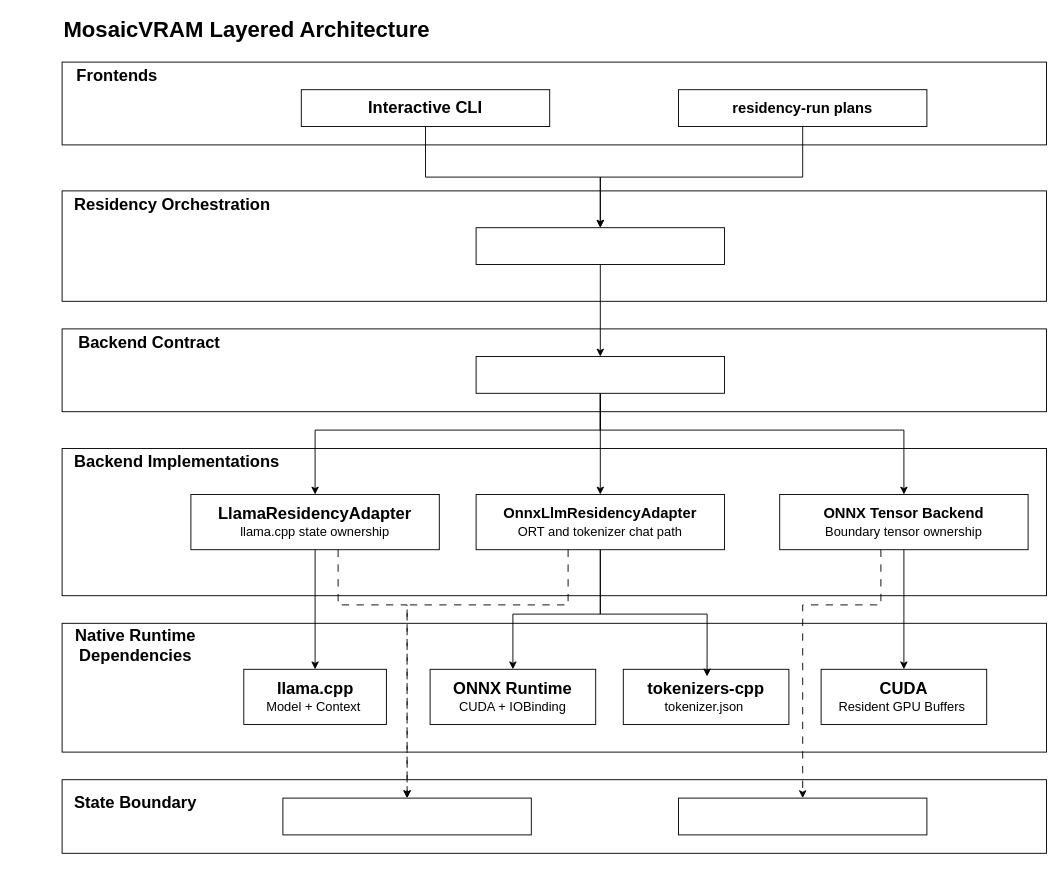
This 1063x869 diagram has some shape labels left out. Here are the shapes that lost their labels. From the top down, the centre of each, then its label:
At point (599, 245): "ResidencyController".
At point (599, 374): "BackendStateAdapter Interface".
At point (406, 816): "Pinned Host State Buffer".
At point (802, 816): "CUDA Boundary Tensors".
